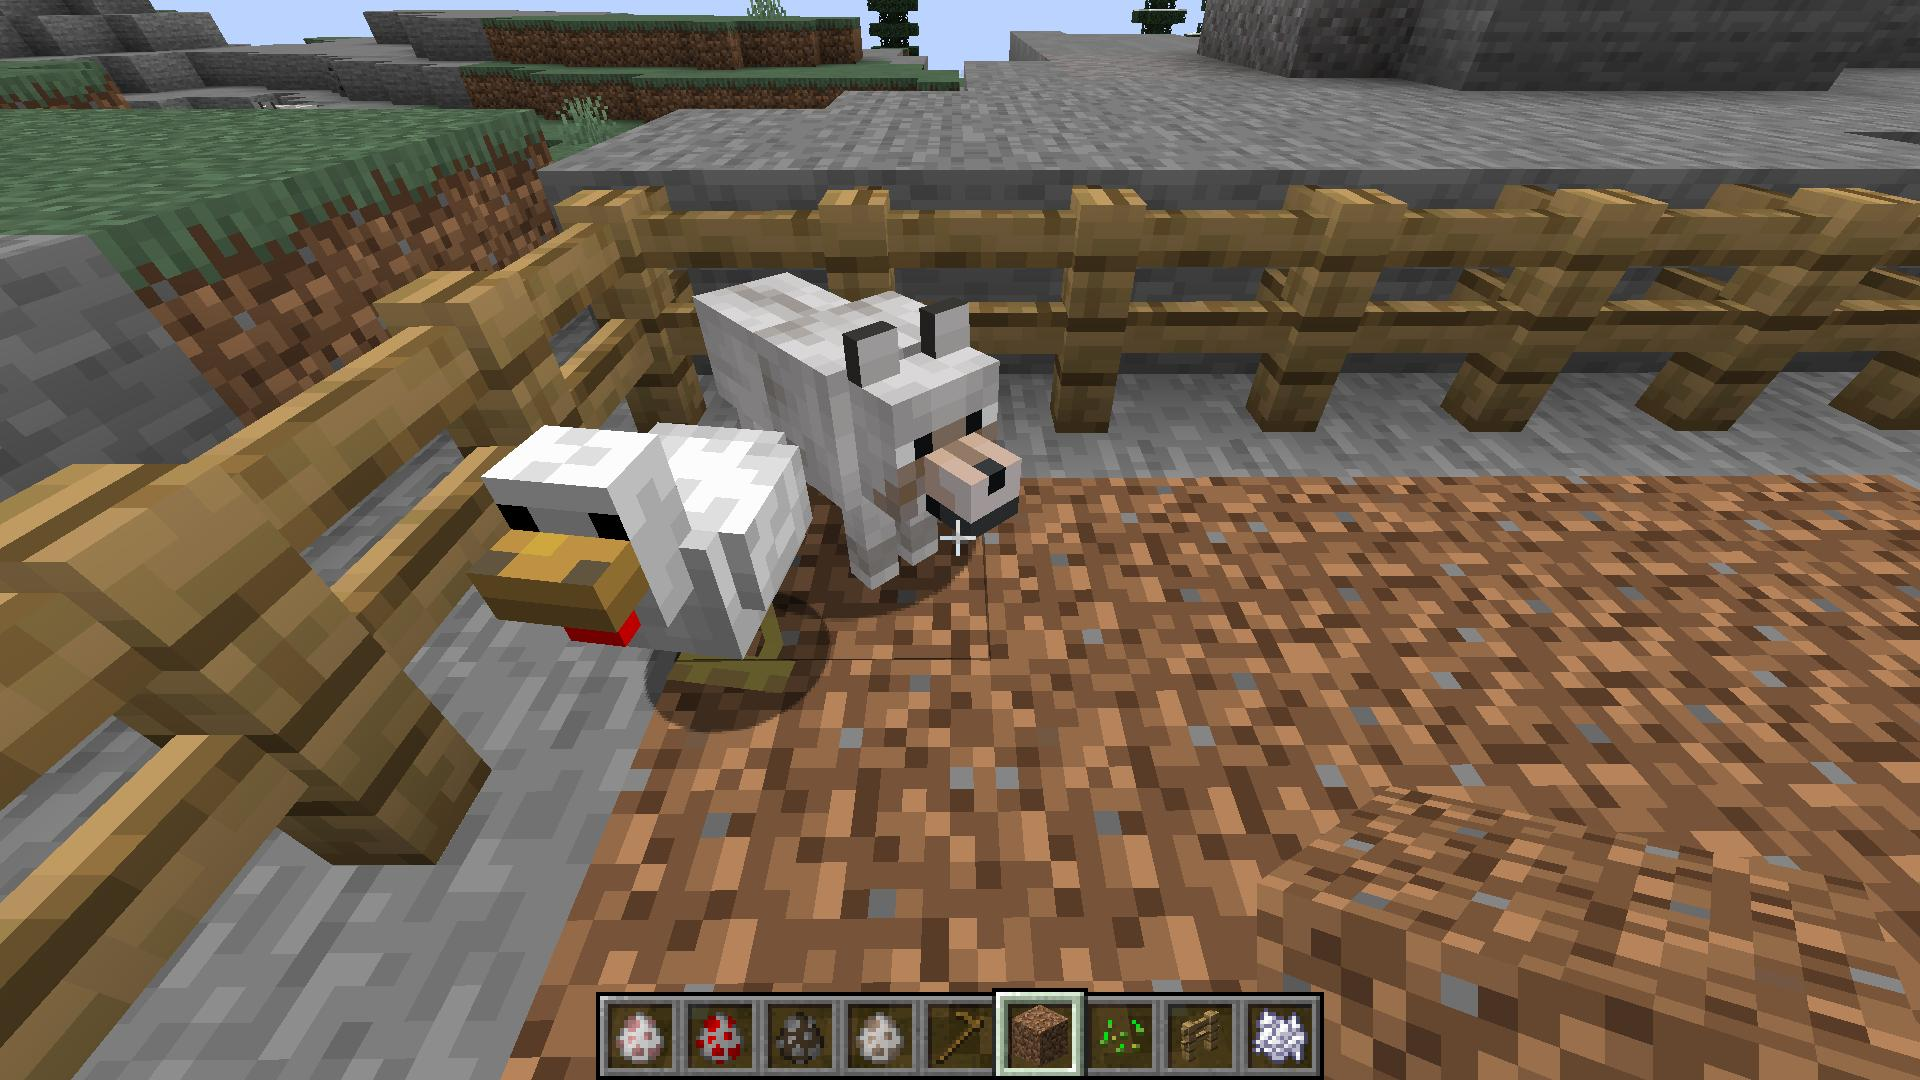chicken: (464, 411, 818, 691)
wolf: (687, 264, 1026, 599)
